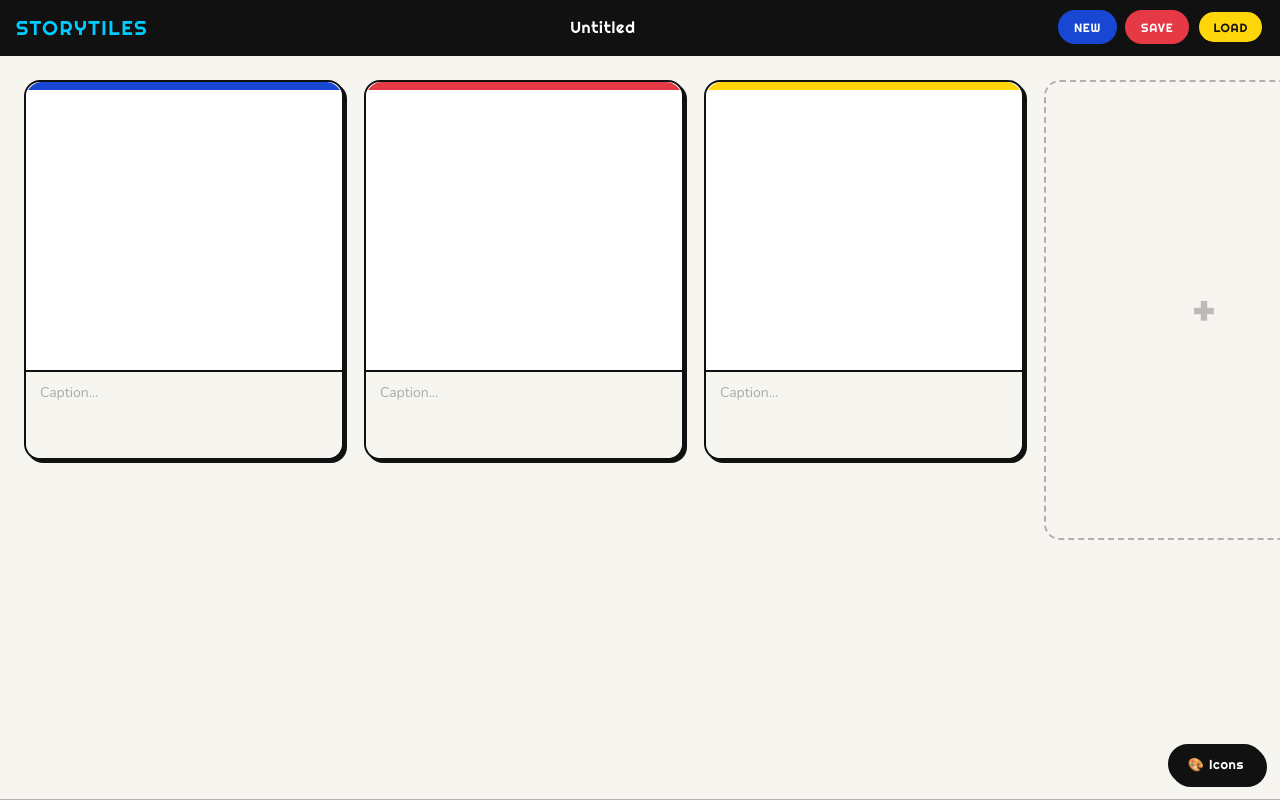
it: Save Story shows confirm dialog
This screenshot has width=1280, height=800.
Step 1. Click the button "Save" → (1157, 27), box [1125,10,1189,44]
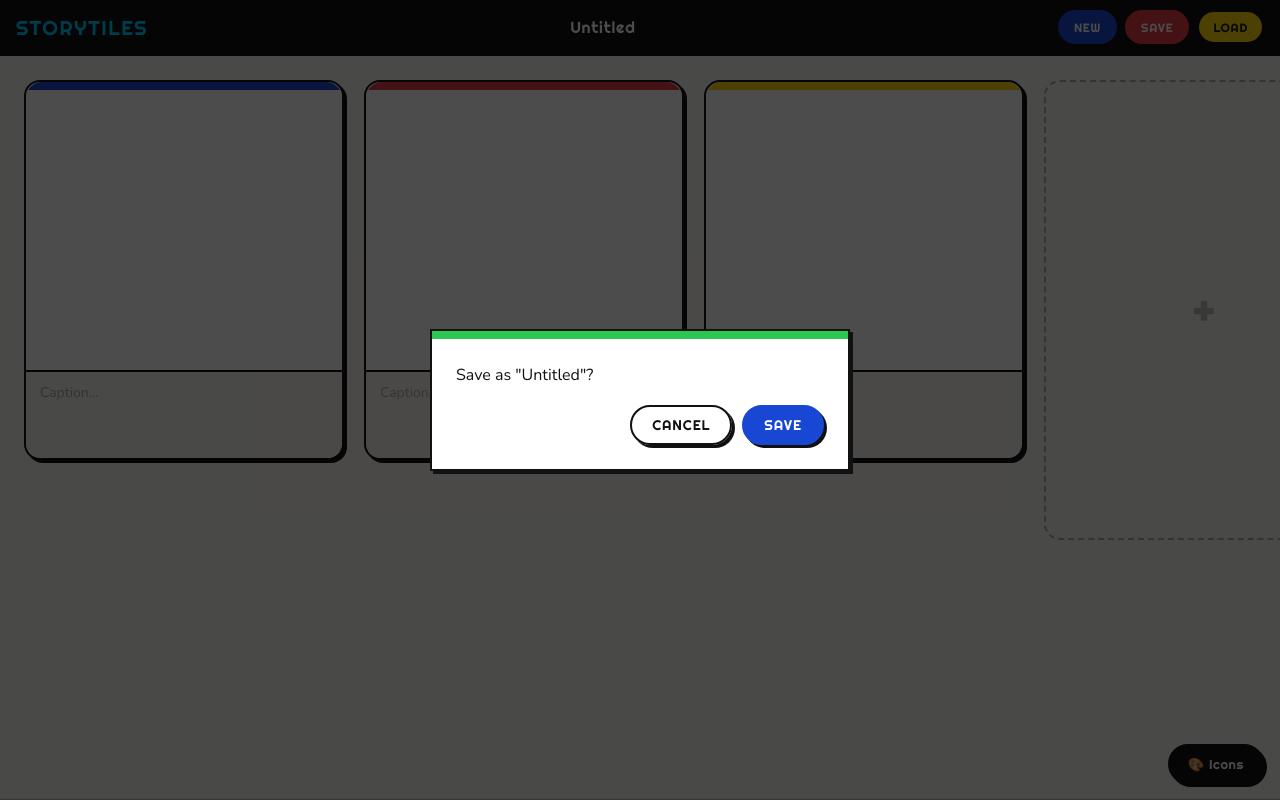
Expected: the text "Save as \"Untitled\"?" is shown, [456,364,593,386]
